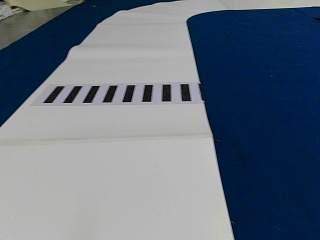crosswalk: (46, 83, 195, 104)
